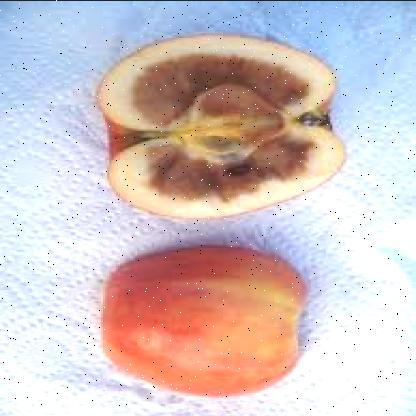apple: (100, 241, 306, 392)
damaged_apple: (98, 36, 338, 218)
